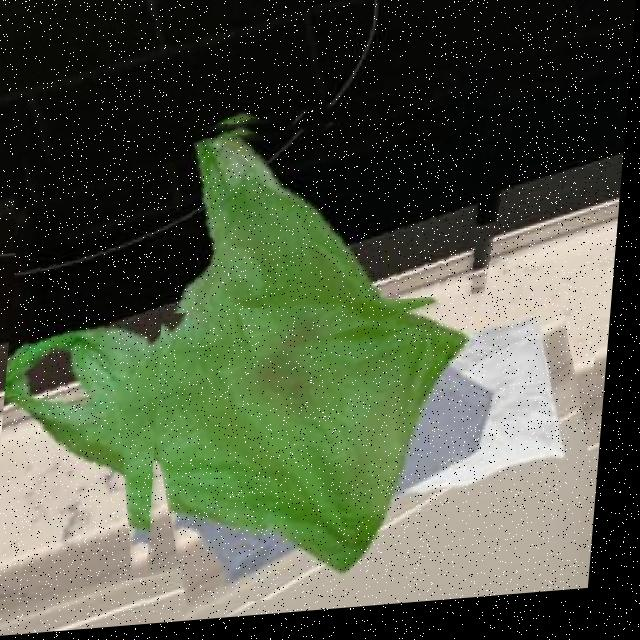litter: (0, 96, 519, 591), (149, 290, 607, 614)
